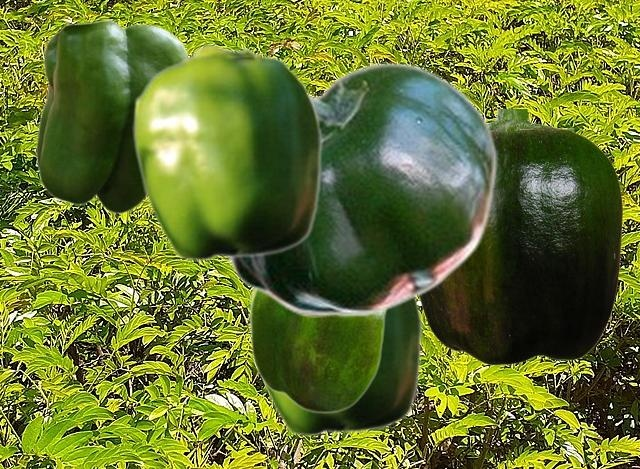bell_pepper: (224, 61, 496, 316), (419, 109, 622, 364), (132, 43, 322, 261), (35, 19, 188, 213), (248, 289, 422, 436), (249, 291, 386, 413)
